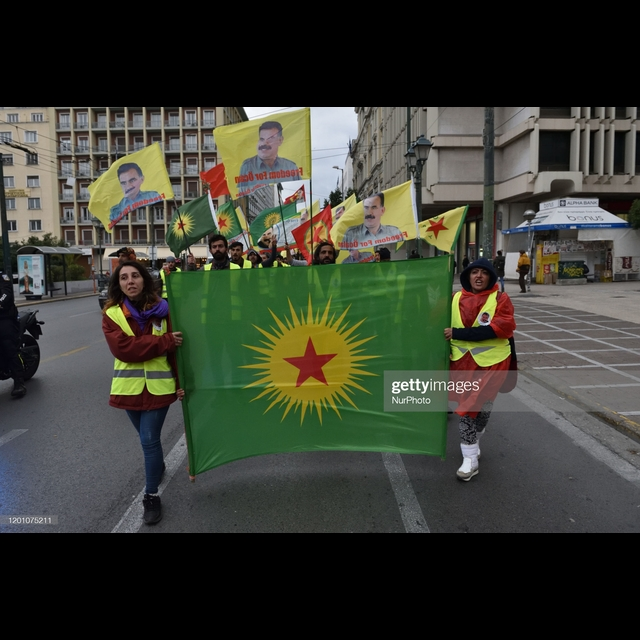APO: (355, 193, 389, 229), (114, 163, 147, 197)
KCK: (234, 287, 384, 433), (168, 212, 196, 238), (207, 209, 233, 233)
YPG: (418, 208, 451, 245)
